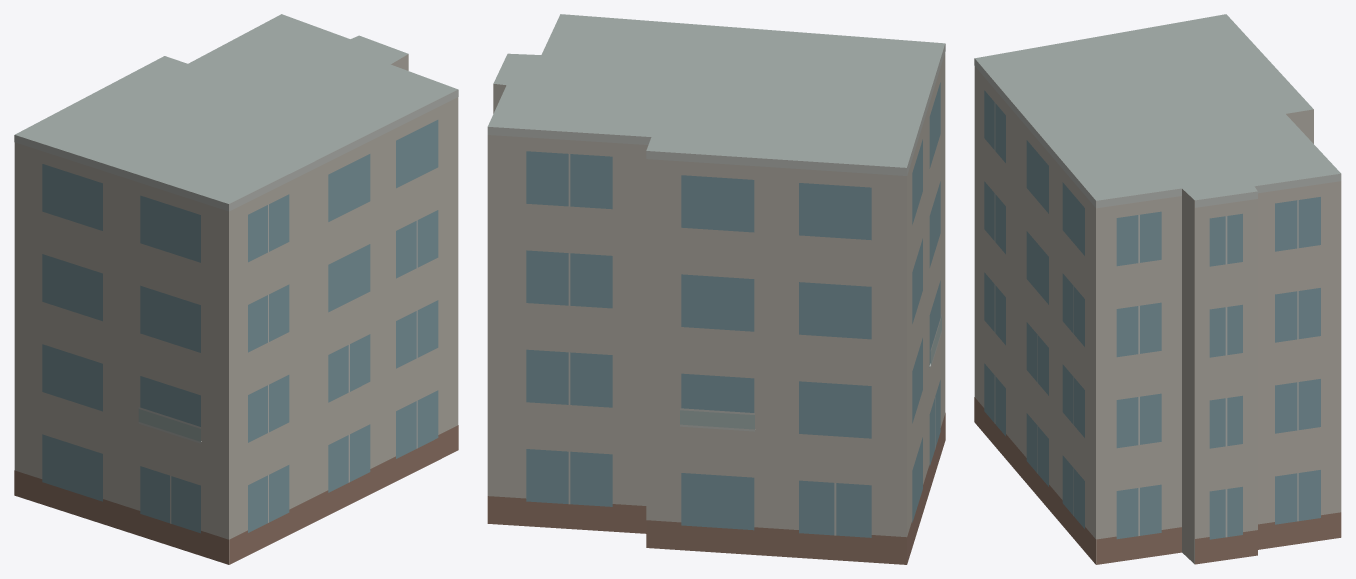
File: survey-upis-33013327.glb
3 renders of one model, left to right at view 1: azimuth 30°, elevation 25°; view 2: azimuth 150°, elevation 25°; view 3: azimuth 270°, elevation 25°, orthographic. The views are drawn at different scales.
Parts seen in each view (by area): view 1: survey-upis-33013327.tmp; view 2: survey-upis-33013327.tmp; view 3: survey-upis-33013327.tmp.
Part boxes in pixels (x1,y1,x2,y2): survey-upis-33013327.tmp: [14, 14, 458, 564]; survey-upis-33013327.tmp: [487, 14, 945, 564]; survey-upis-33013327.tmp: [974, 14, 1341, 564].
Bounding box in the file's own units: 13.04 × 11.84 × 10.82.
